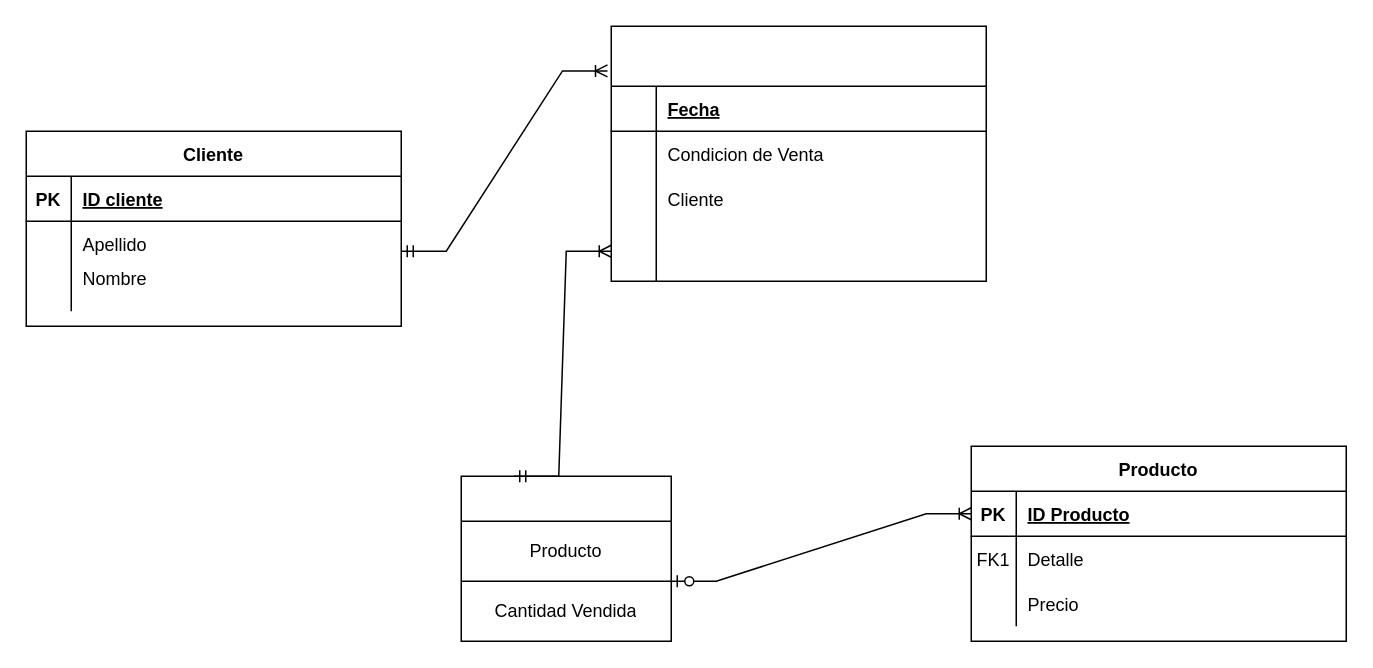
This 1373x668 diagram has some shape labels left out. The box of each missing label's shape, as (x1, y1, x2, y2) in pixels:
Detalle de la Factura: (460, 475, 671, 641)
Factura: (610, 25, 986, 281)
